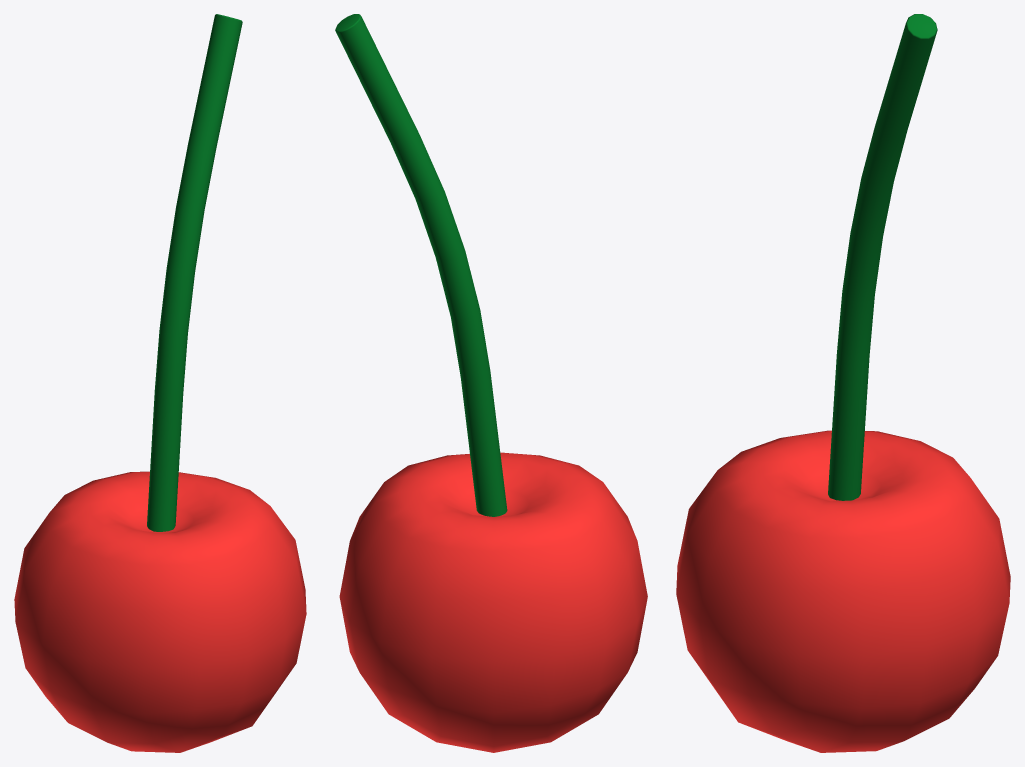
Rendered from Store_4_Cherry_1.glb.
The picture shows the model from 3 angles, left to right: view 1: azimuth 30°, elevation 25°; view 2: azimuth 150°, elevation 25°; view 3: azimuth 270°, elevation 25°; orthographic projection. The views are drawn at different scales.
Parts seen in each view (by area): view 1: Store_4_Cherry_1; view 2: Store_4_Cherry_1; view 3: Store_4_Cherry_1.
Part boxes in pixels (bbox=[...]): Store_4_Cherry_1: bbox=[14, 14, 306, 752]; Store_4_Cherry_1: bbox=[335, 14, 647, 752]; Store_4_Cherry_1: bbox=[676, 14, 1010, 752].
Size of the model in its own units: 0.9341 by 2.39 by 0.9341.
Materials: 1 (1 with a texture image).
